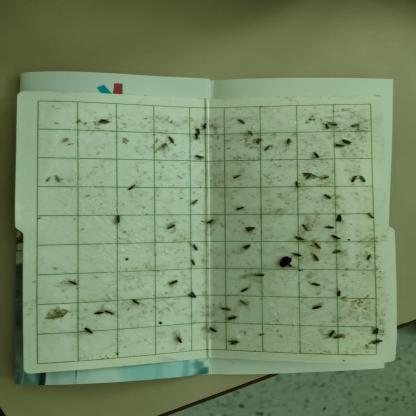prays_oleae: (164, 130, 184, 162), (227, 331, 243, 359), (159, 219, 178, 242), (94, 110, 110, 137), (170, 326, 184, 356), (364, 333, 386, 352), (66, 273, 84, 295), (250, 264, 268, 286), (308, 272, 324, 294), (330, 286, 346, 308), (185, 282, 199, 306), (300, 166, 318, 184), (50, 304, 68, 322), (83, 320, 97, 343), (230, 166, 246, 184), (283, 129, 296, 151), (204, 322, 224, 336), (341, 132, 354, 153), (225, 309, 241, 326), (364, 208, 378, 227), (187, 194, 199, 216), (332, 325, 345, 345), (243, 222, 259, 238), (308, 248, 323, 265), (104, 302, 116, 323), (320, 186, 334, 204), (306, 302, 324, 316), (164, 275, 180, 290), (326, 116, 341, 132), (244, 124, 256, 144), (310, 235, 322, 254), (322, 218, 336, 234), (368, 323, 382, 339), (126, 177, 136, 199), (292, 244, 303, 264), (290, 174, 302, 192), (238, 297, 252, 312), (236, 112, 247, 131), (331, 245, 344, 261), (94, 298, 104, 318), (187, 252, 198, 270), (196, 149, 208, 165), (218, 302, 234, 314), (262, 140, 274, 156), (112, 210, 122, 229), (350, 172, 360, 190), (334, 140, 346, 155), (350, 122, 362, 136), (294, 231, 305, 246), (130, 294, 139, 312), (238, 245, 254, 255), (238, 282, 248, 297), (358, 171, 368, 186), (320, 168, 330, 183), (312, 148, 322, 162), (254, 132, 262, 149), (192, 238, 200, 254), (328, 327, 336, 343), (332, 233, 343, 244), (231, 206, 245, 214), (206, 218, 216, 229)
